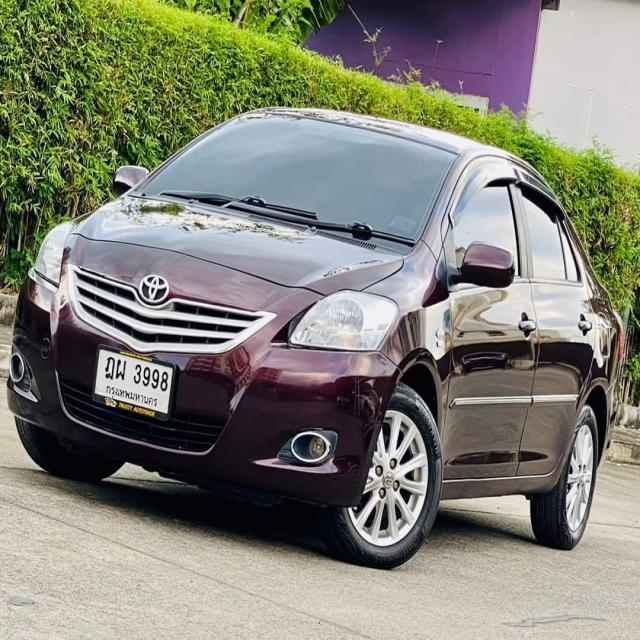license_plate: (90, 341, 176, 425)
